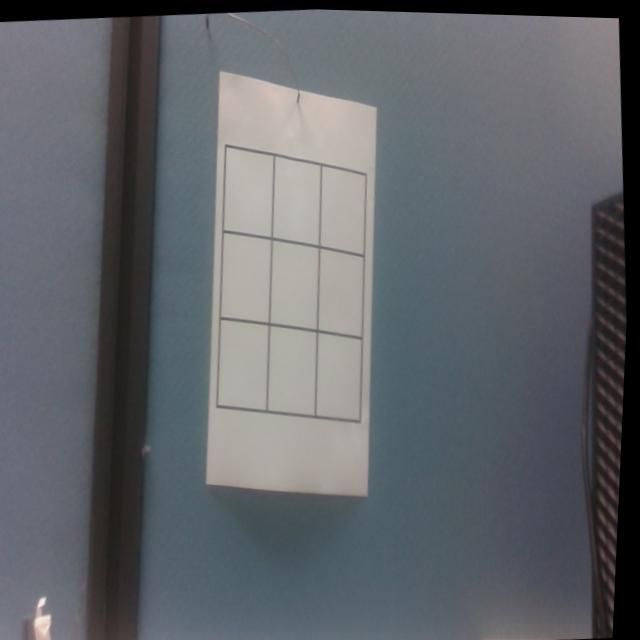null: (321, 165, 368, 255), (273, 241, 320, 327), (223, 322, 270, 408), (276, 154, 321, 243), (225, 234, 271, 321), (227, 149, 272, 236), (321, 248, 365, 335), (273, 327, 317, 411), (321, 333, 363, 417)
table: (220, 144, 369, 422)
